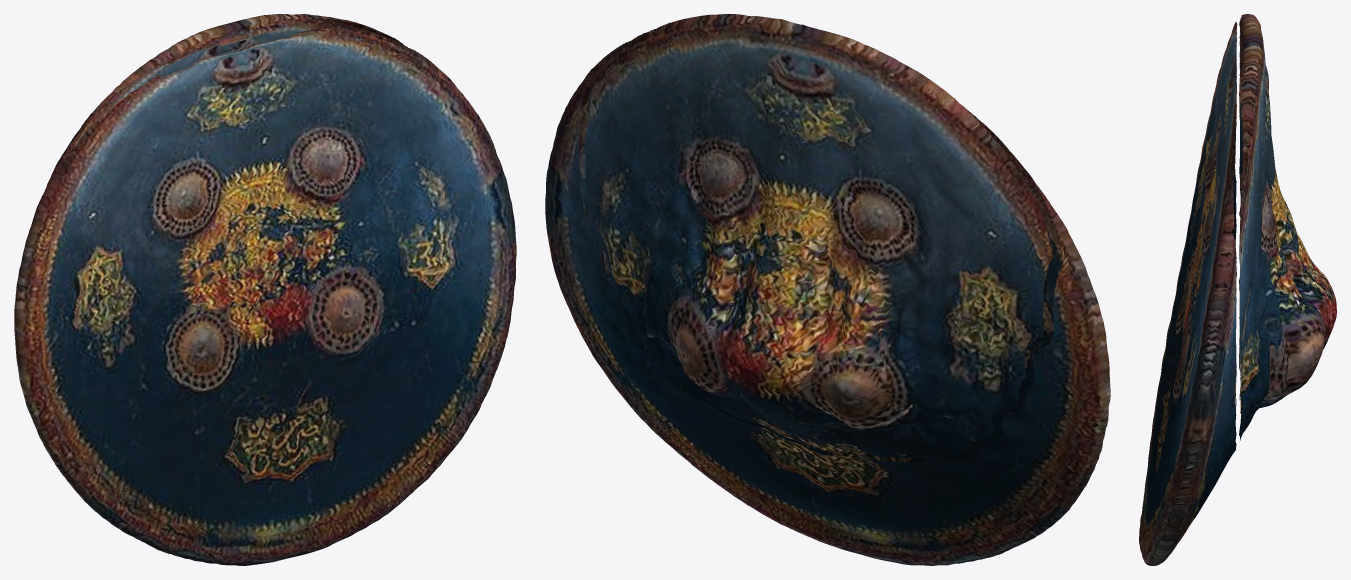
File: kfl-2132.glb
3 renders of one model, left to right at view 1: azimuth 30°, elevation 25°; view 2: azimuth 150°, elevation 25°; view 3: azimuth 270°, elevation 25°, orthographic. The views are drawn at different scales.
Visible parts, largest first — view 1: geometry_0; view 2: geometry_0; view 3: geometry_0.
Part boxes in pixels (left/top/right/bottom): geometry_0: left=14, top=14, right=516, bottom=565; geometry_0: left=545, top=14, right=1110, bottom=565; geometry_0: left=1139, top=14, right=1336, bottom=565.
Bounding box in the file's own units: 0.9924 × 0.9601 × 0.3452.
Materials: 1 (1 with a texture image).
